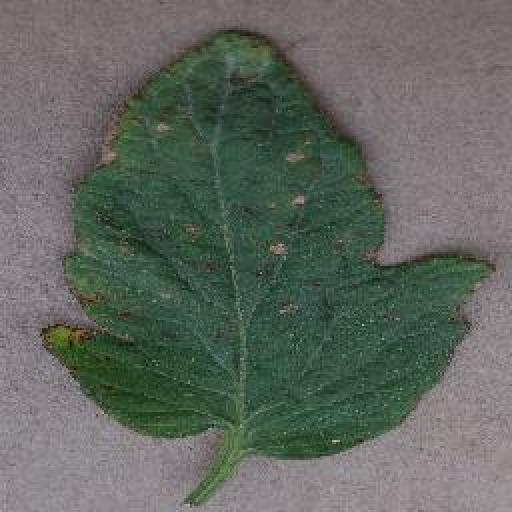Bacterial Spot: (35, 21, 501, 468)
